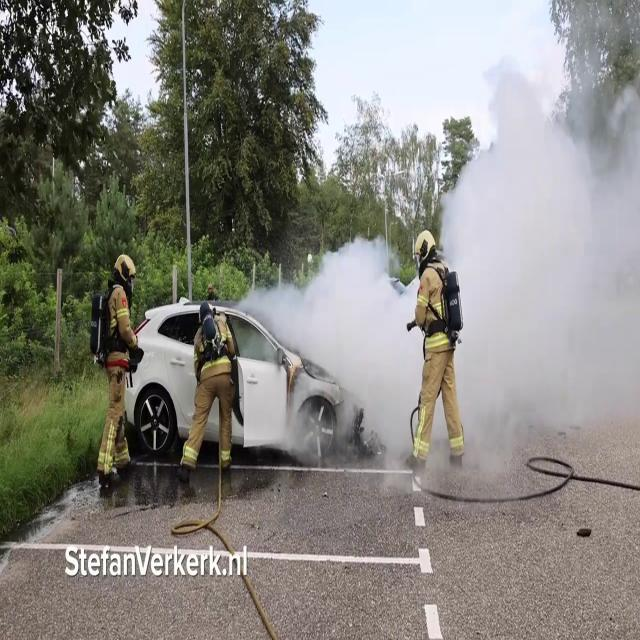Smoke: (445, 4, 640, 468), (266, 230, 416, 462)
